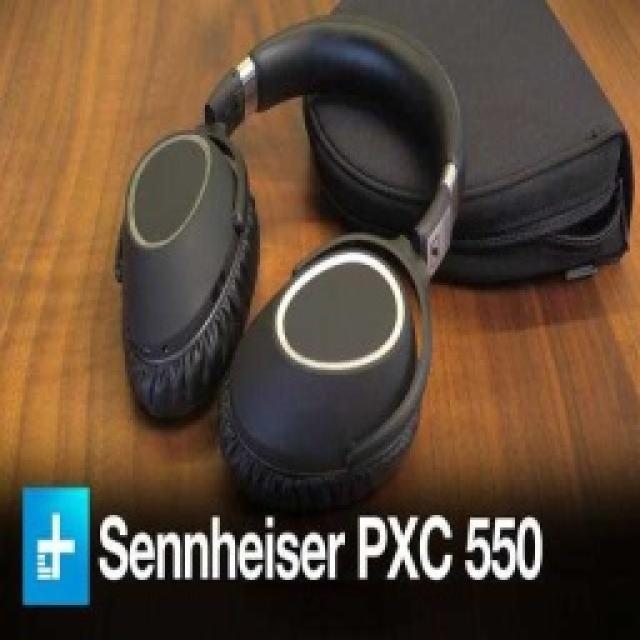headphones: (112, 12, 462, 512)
